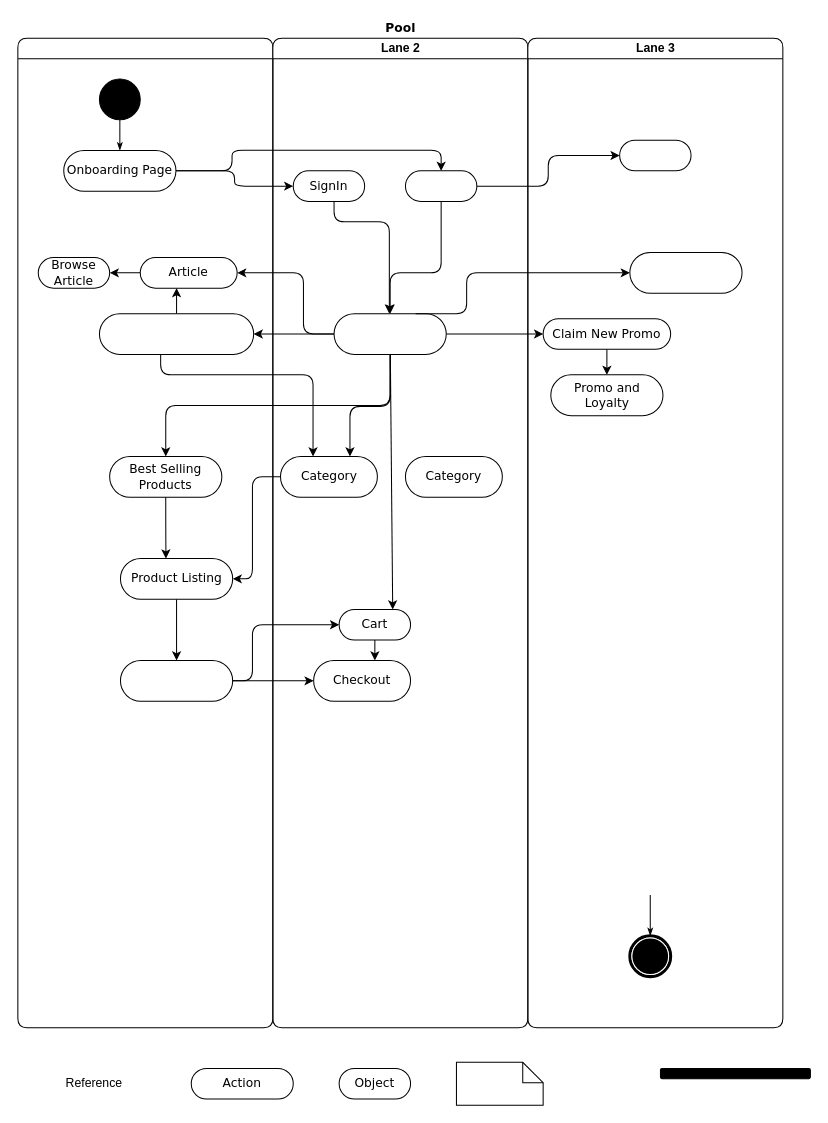
The diagram is 828 pixels wide and 1123 high, and some of its shapes have lost their labels. Here are the shapes that lost their labels. From the top down, the box of each, then its label:
(619, 139, 691, 171): SignUp
(404, 170, 477, 201): Guest Login
(629, 251, 742, 293): Profile
(98, 313, 254, 354): Search Products, Categories, Articles
(333, 313, 446, 354): Home
(17, 37, 273, 1028): Lane 1
(119, 659, 233, 701): Product Details
(455, 1061, 543, 1105): Note
